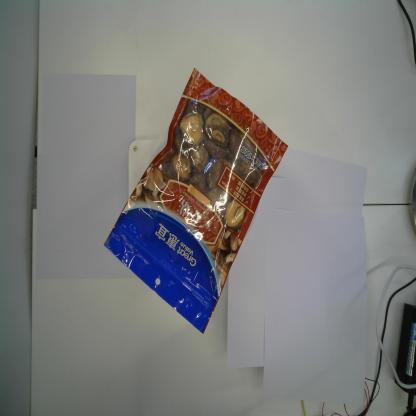Dried Food: (103, 66, 289, 336)
